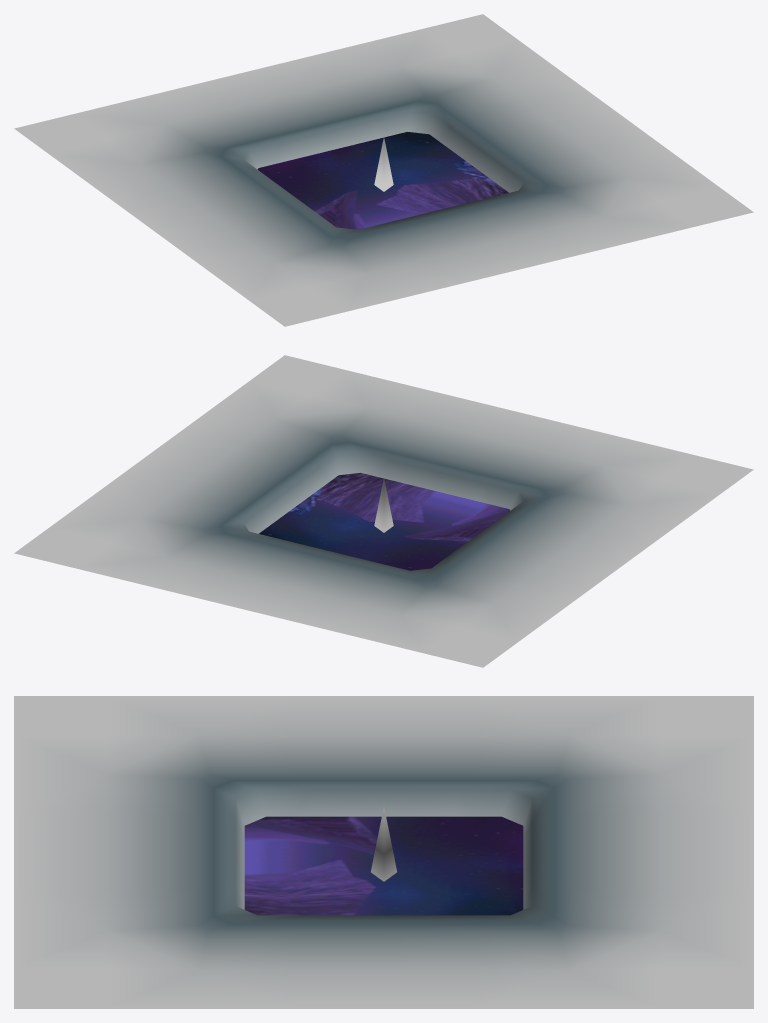
The model's file is sepool01.fbx.
3 renders of one model, top to bottom at view 1: azimuth 30°, elevation 25°; view 2: azimuth 150°, elevation 25°; view 3: azimuth 270°, elevation 25°, orthographic. The views are drawn at different scales.
Visible parts, largest first — view 1: grid1, chrome, hp_emit_1; view 2: grid1, chrome, hp_emit_1; view 3: grid1, chrome, hp_emit_1.
Part boxes in pixels (x1,y1,x2,y2): grid1: (14, 14, 753, 326); chrome: (257, 132, 508, 229); hp_emit_1: (374, 137, 393, 191); grid1: (14, 355, 753, 667); chrome: (259, 473, 510, 570); hp_emit_1: (374, 478, 393, 532); grid1: (14, 696, 753, 1008); chrome: (244, 816, 523, 915); hp_emit_1: (371, 807, 396, 881).
Size of the model in its own units: 32 by 5 by 32.
